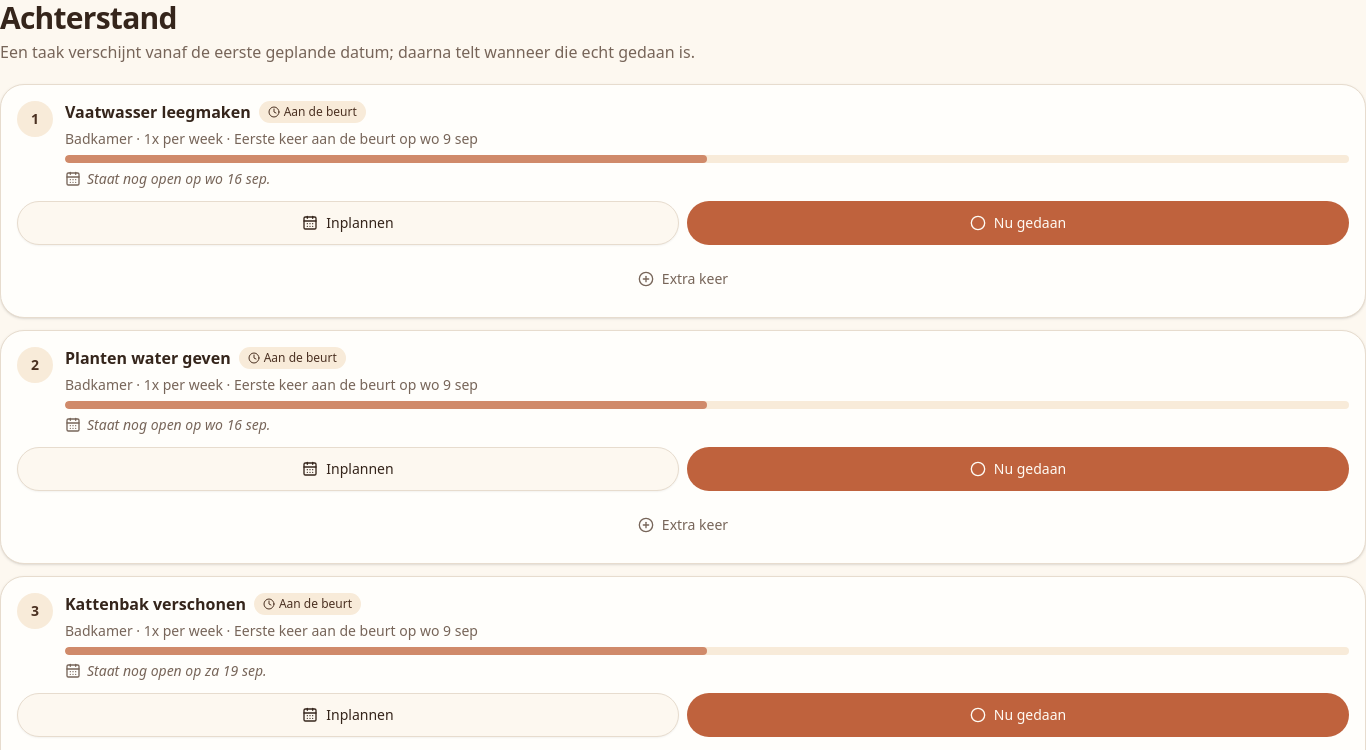
DuePage › "Nu gedaan" for work that is planned today for someone else › asks who performed it and says who receives the points, without sending anything yet
Click the button with aria-label "Vaatwasser leegmaken nu gedaan": (1018, 223) 687,201 -> 1349,245
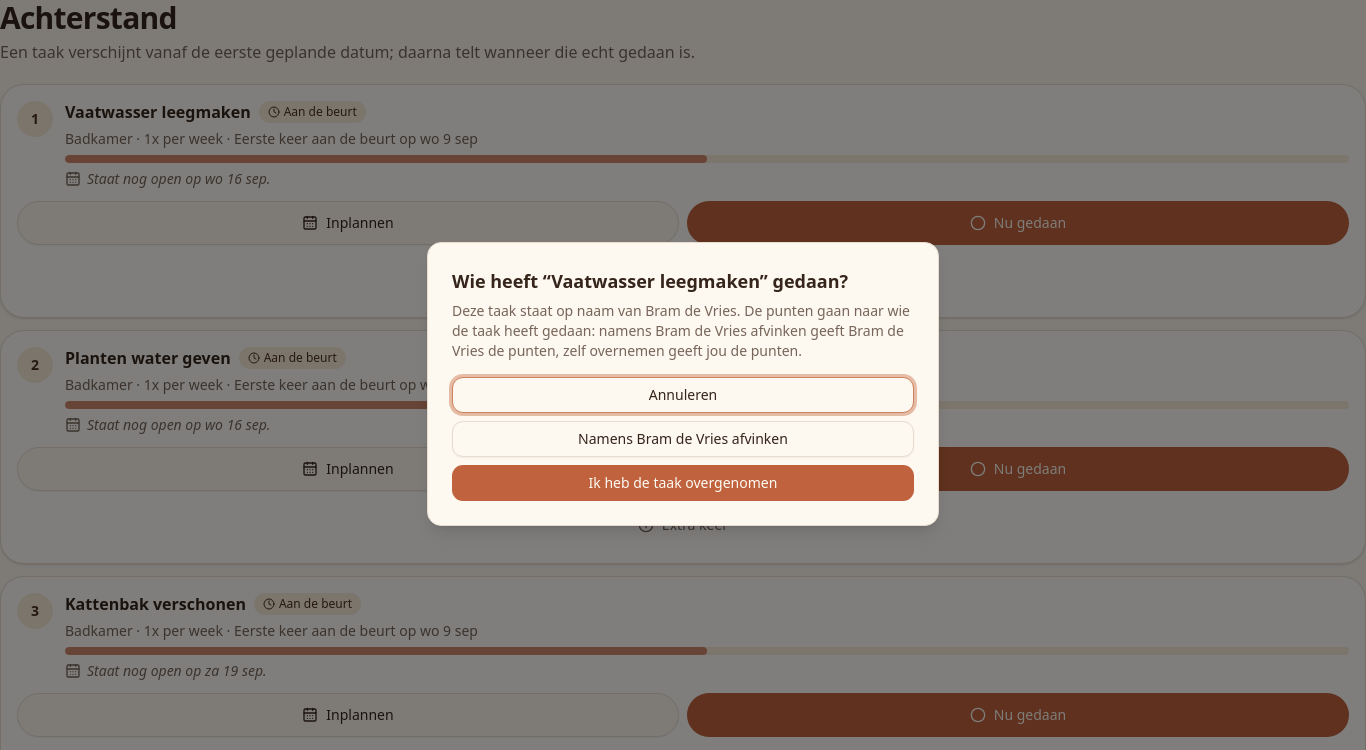
Now the dialog shows "Wie heeft “Vaatwasser leegmaken” gedaan?", box 452,269 -> 848,293
Now the dialog shows "Deze taak staat op naam van Bram de Vries", box 452,301 -> 910,360
Now the dialog shows "namens Bram de Vries afvinken geeft Bram de Vries de punten", box 452,301 -> 910,360
